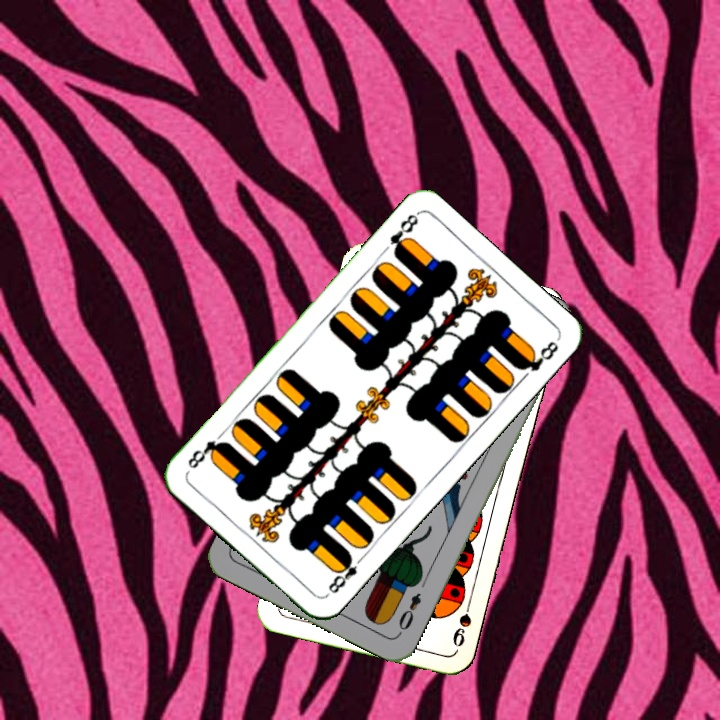E8: (324, 548, 367, 596), (386, 209, 421, 260)
EO: (394, 588, 424, 638)
S9: (448, 592, 475, 650)
